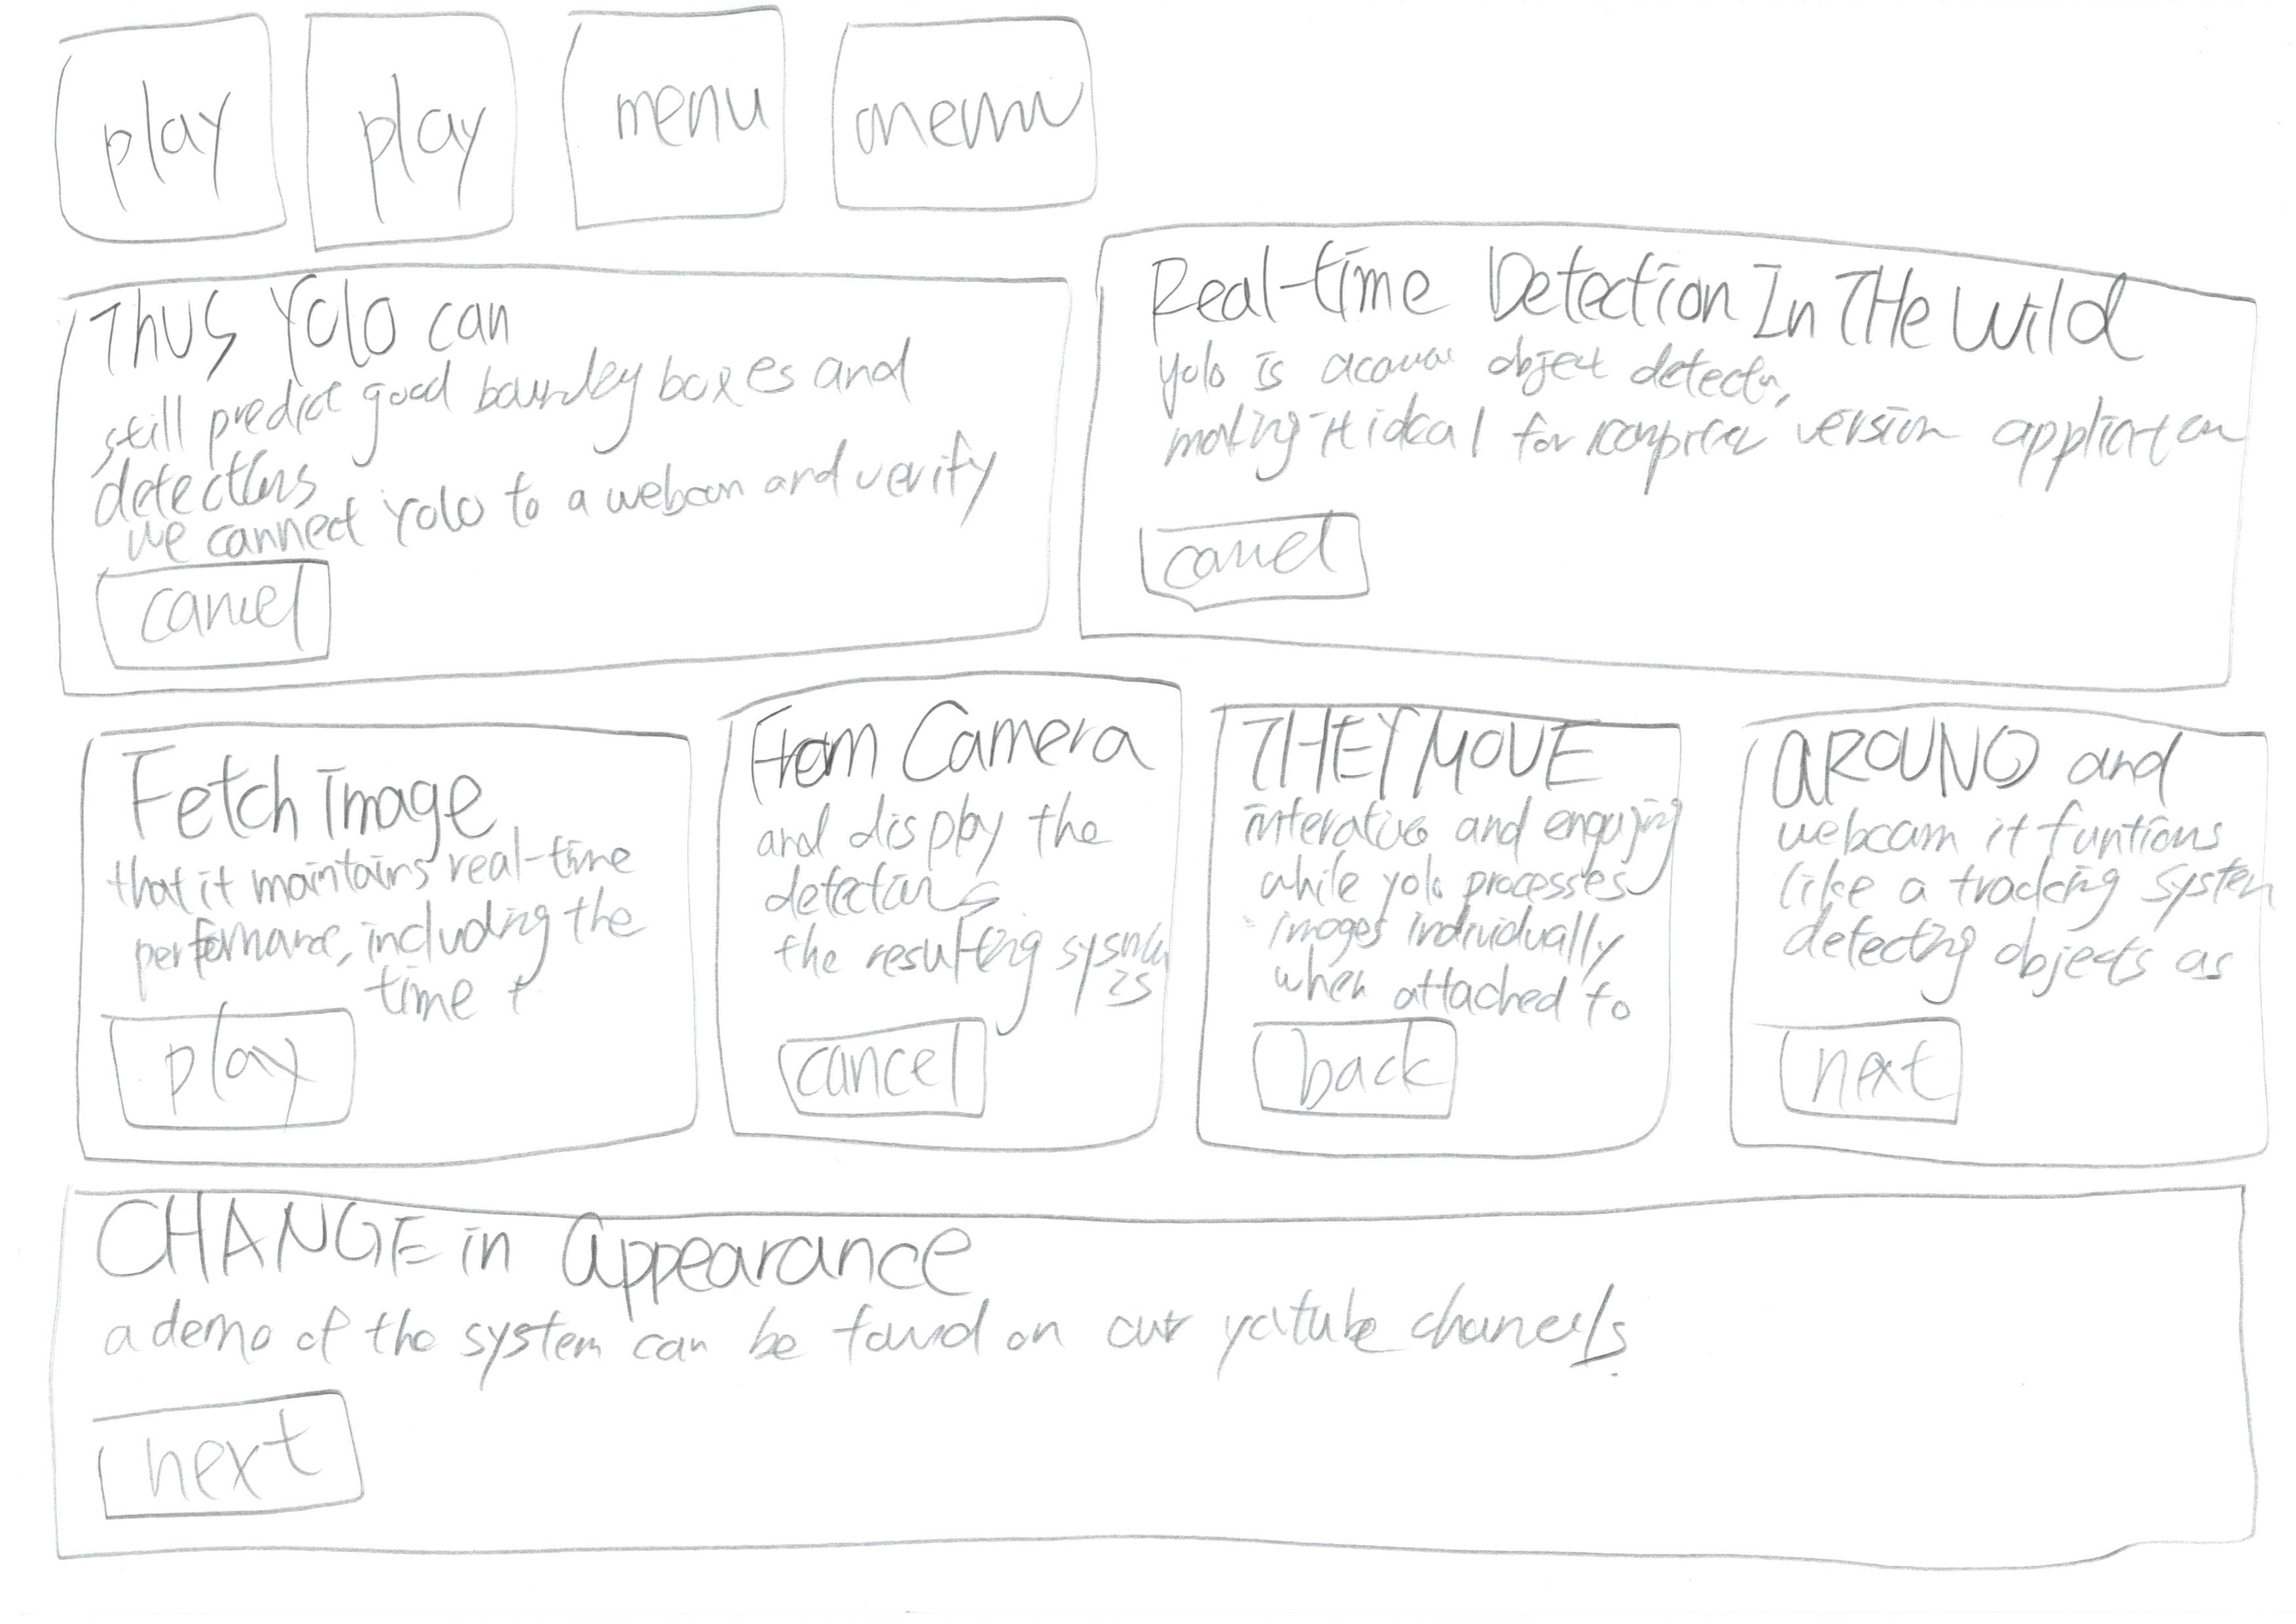back: (1229, 1000, 1491, 1160)
cancel: (1123, 487, 1398, 631), (758, 1014, 1037, 1142), (98, 547, 353, 685)
double: (1064, 190, 2296, 715), (35, 253, 1088, 735)
menu: (812, 0, 1132, 255), (552, 0, 809, 251)
next: (63, 1383, 413, 1538), (1753, 1002, 1997, 1144)
play: (0, 0, 315, 288), (288, 0, 540, 253), (77, 990, 406, 1164)
quadruple: (18, 696, 731, 1206), (1691, 678, 2296, 1222), (705, 656, 1210, 1220), (1192, 659, 1697, 1223)
row: (12, 649, 2296, 1232), (12, 192, 2296, 707), (12, 1162, 2296, 1624), (26, 9, 2296, 265)
single: (26, 1172, 2296, 1598)
small-title: (1136, 257, 2110, 359), (109, 1202, 992, 1306), (95, 750, 510, 847), (756, 687, 1144, 789), (104, 285, 508, 366), (1762, 742, 2201, 807), (1238, 715, 1559, 798)
text: (1141, 337, 2224, 501), (104, 366, 988, 533), (1241, 787, 1675, 1039), (1767, 791, 2245, 1004), (93, 1301, 1635, 1366), (754, 808, 1162, 1016), (111, 851, 635, 995)
